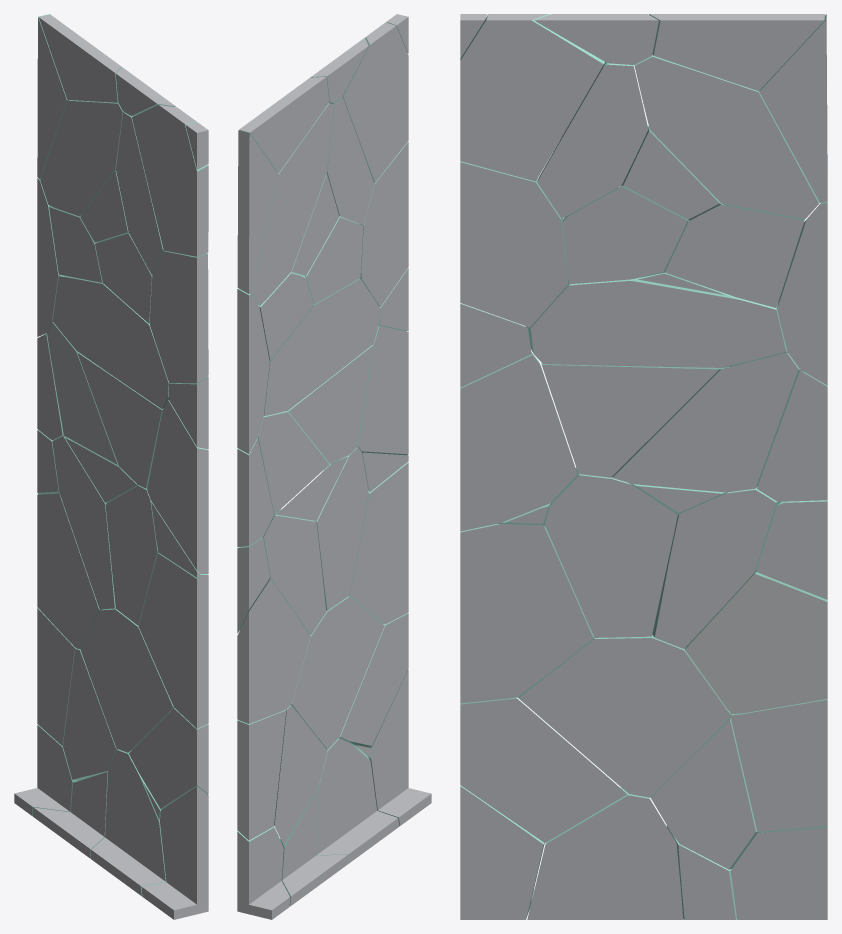
Rendered from billboardDestroyed.fbx.
The picture shows the model from 3 angles, left to right: view 1: azimuth 30°, elevation 25°; view 2: azimuth 150°, elevation 25°; view 3: azimuth 270°, elevation 25°; orthographic projection. The views are drawn at different scales.
Visible parts, largest first — view 1: sign_billboard_cell.045, sign_billboard_cell.030, sign_billboard_cell.053, sign_billboard_cell.027, sign_billboard_cell.054, sign_billboard_cell.039, sign_billboard_cell.025, sign_billboard_cell.002, sign_billboard_cell.028, sign_billboard_cell.024, sign_billboard_cell.014, sign_billboard_cell.032 (+21 smaller); view 2: sign_billboard_cell.030, sign_billboard_cell.027, sign_billboard_cell.028, sign_billboard_cell.053, sign_billboard_cell.045, sign_billboard_cell.039, sign_billboard_cell.002, sign_billboard_cell.054, sign_billboard_cell.025, sign_billboard_cell.014, sign_billboard_cell.031, sign_billboard_cell.044 (+20 smaller); view 3: sign_billboard_cell.027, sign_billboard_cell.030, sign_billboard_cell.045, sign_billboard_cell.053, sign_billboard_cell.039, sign_billboard_cell.014, sign_billboard_cell.025, sign_billboard_cell.002, sign_billboard_cell.023, sign_billboard_cell.028, sign_billboard_cell.032, sign_billboard_cell.054 (+19 smaller).
Boxes of the visible parts, x1,y1,x2,y2 form: sign_billboard_cell.045: (138, 552, 208, 728); sign_billboard_cell.030: (52, 276, 169, 409); sign_billboard_cell.053: (132, 104, 208, 256); sign_billboard_cell.027: (80, 608, 173, 752); sign_billboard_cell.054: (150, 251, 208, 383); sign_billboard_cell.039: (40, 100, 124, 216); sign_billboard_cell.025: (147, 400, 208, 573); sign_billboard_cell.002: (90, 749, 166, 896); sign_billboard_cell.028: (37, 493, 101, 648); sign_billboard_cell.024: (141, 786, 208, 919); sign_billboard_cell.014: (105, 484, 158, 625); sign_billboard_cell.032: (129, 708, 208, 809); sign_billboard_cell.030: (263, 279, 379, 416); sign_billboard_cell.027: (291, 596, 384, 749); sign_billboard_cell.028: (237, 579, 310, 723); sign_billboard_cell.053: (341, 22, 408, 182); sign_billboard_cell.045: (349, 462, 408, 624); sign_billboard_cell.039: (250, 103, 333, 305); sign_billboard_cell.002: (316, 738, 399, 863); sign_billboard_cell.054: (359, 141, 408, 307); sign_billboard_cell.025: (357, 326, 408, 455); sign_billboard_cell.014: (315, 447, 368, 610); sign_billboard_cell.031: (262, 509, 326, 634); sign_billboard_cell.044: (288, 345, 373, 463); sign_billboard_cell.027: (517, 635, 730, 797); sign_billboard_cell.030: (525, 272, 787, 367); sign_billboard_cell.045: (460, 524, 593, 703); sign_billboard_cell.053: (460, 14, 604, 181); sign_billboard_cell.039: (634, 55, 819, 220); sign_billboard_cell.014: (544, 468, 677, 637); sign_billboard_cell.025: (460, 352, 577, 531); sign_billboard_cell.002: (527, 787, 683, 919); sign_billboard_cell.023: (613, 352, 803, 492); sign_billboard_cell.028: (685, 570, 827, 714); sign_billboard_cell.032: (460, 697, 626, 842); sign_billboard_cell.054: (460, 161, 568, 327).
Size of the model in its own units: 7.5 by 162 by 60.
